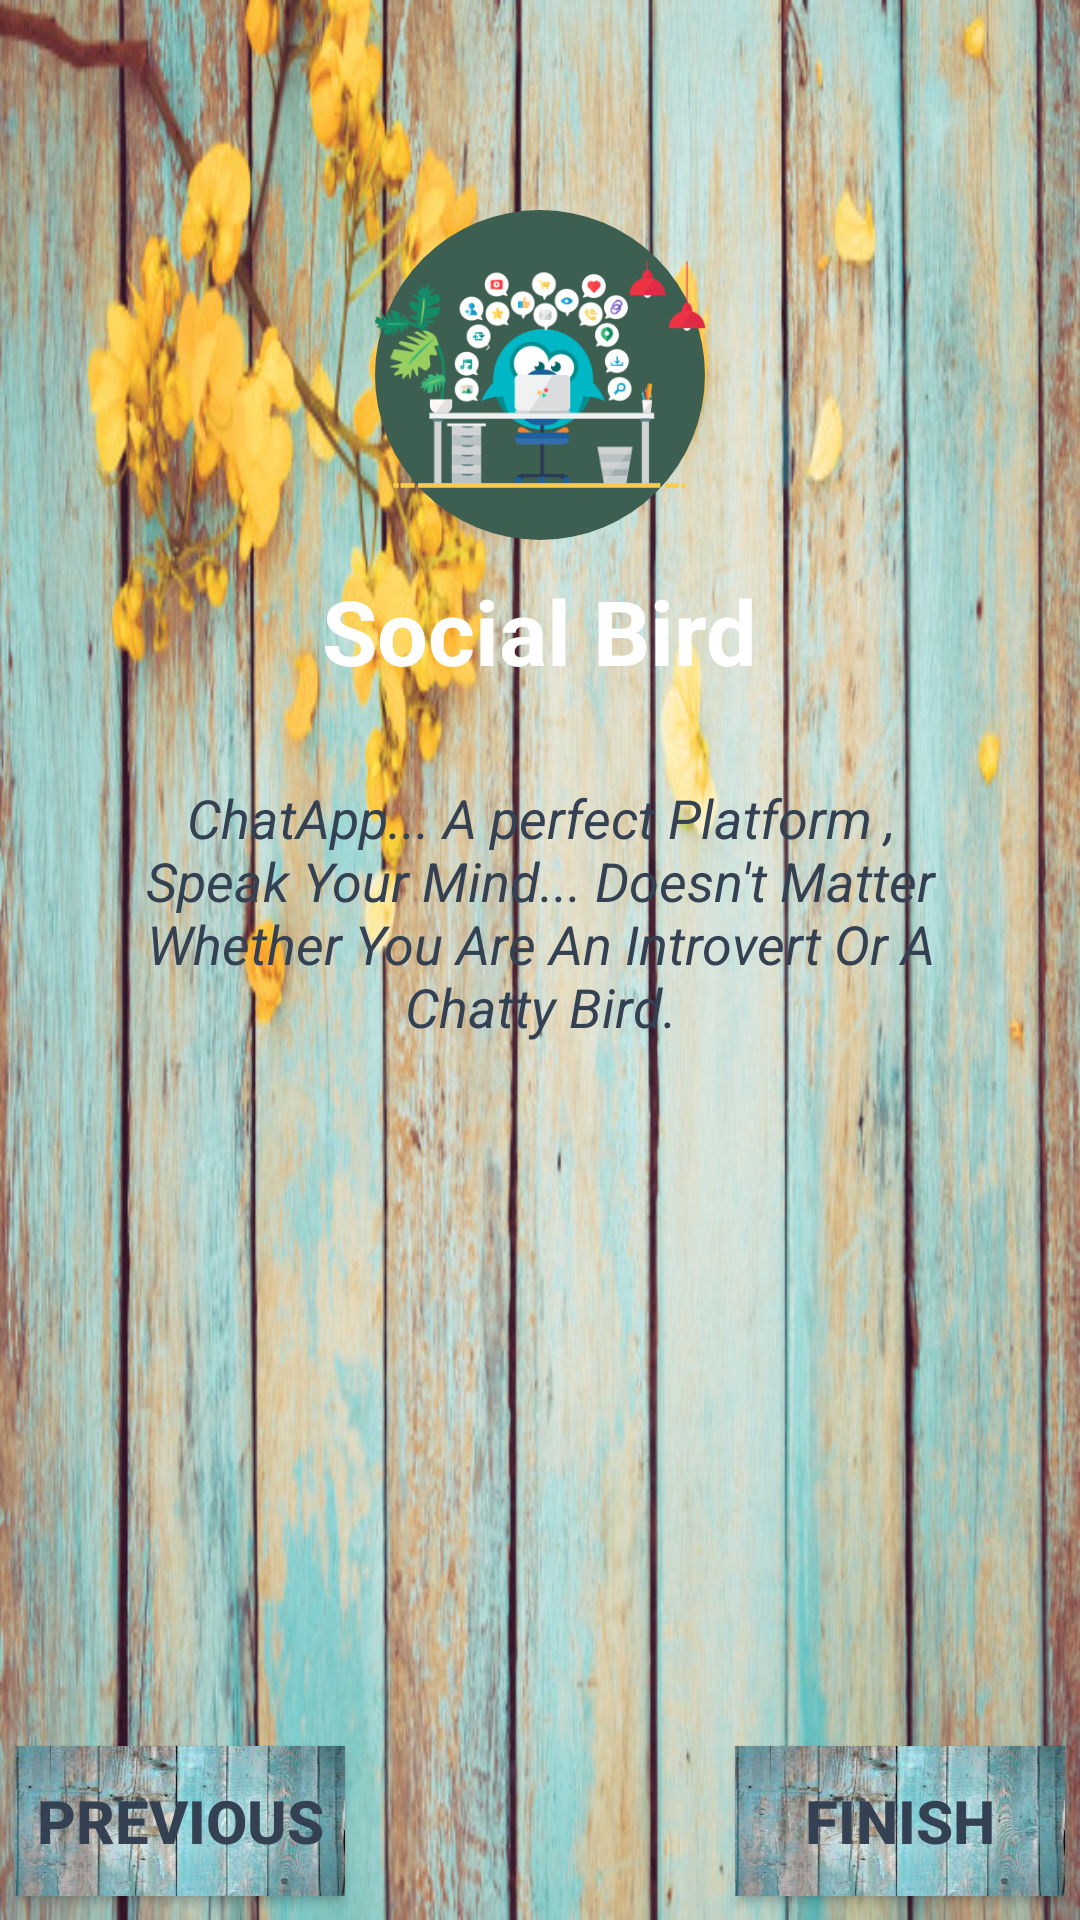

Icons on this 1080x1920 Android screen, each with the point to tap as point (x, y):
birdchat: point (540, 375)
